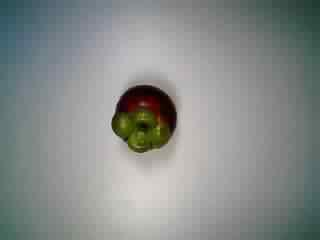mangosteen: (96, 79, 182, 166)
